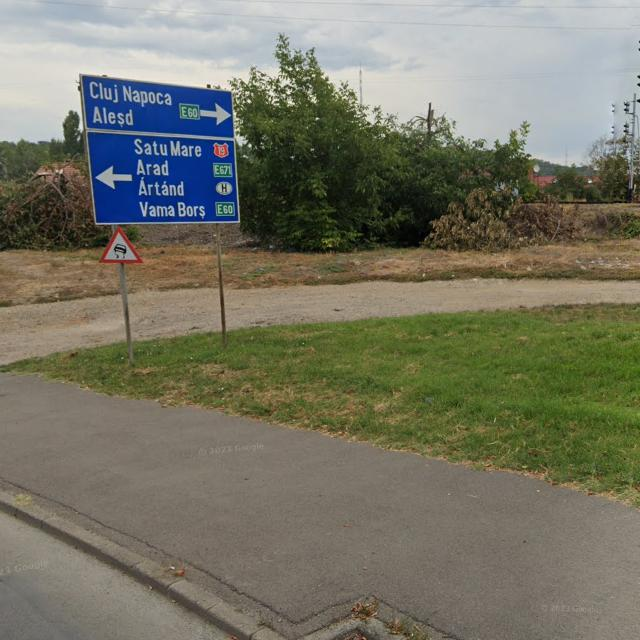warn_slippery_road: (98, 226, 144, 263)
